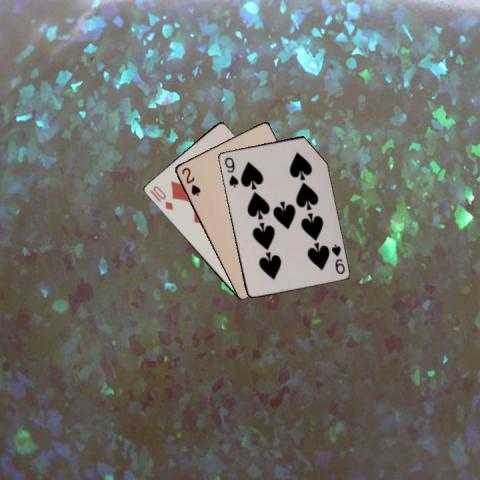10d: (149, 183, 174, 211)
2s: (179, 165, 202, 197)
9s: (222, 154, 240, 189), (328, 242, 346, 276)
